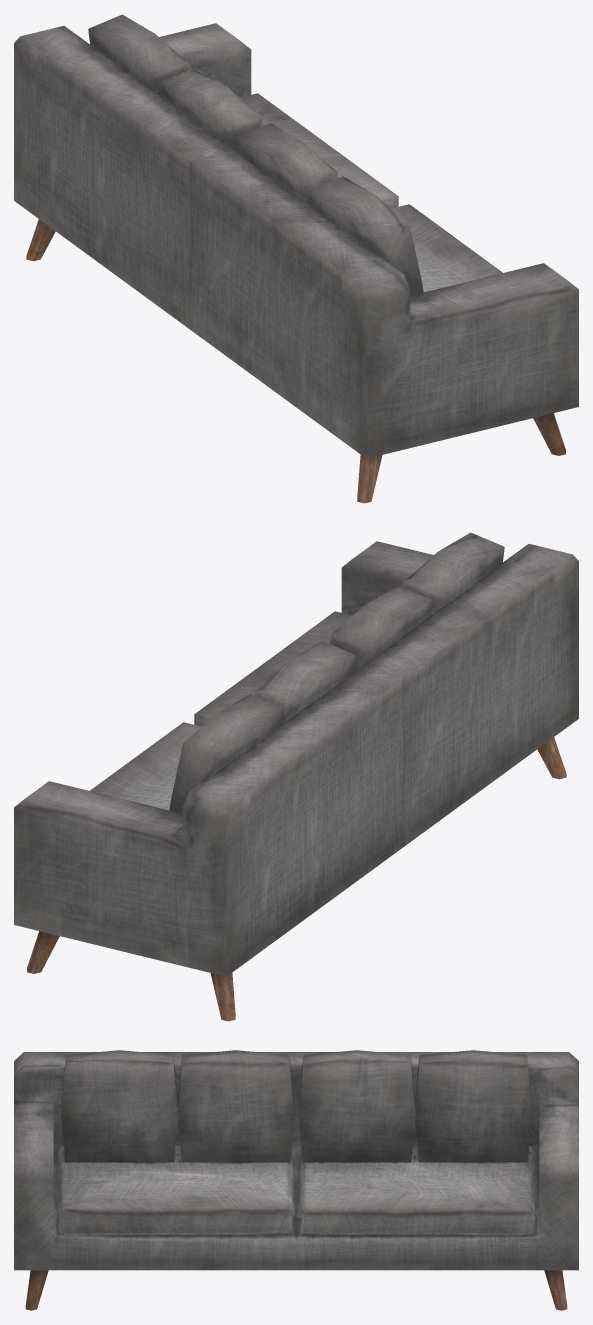
The model's file is sofagrey.glb.
The picture shows the model from 3 angles, top to bottom: view 1: azimuth 30°, elevation 25°; view 2: azimuth 150°, elevation 25°; view 3: azimuth 270°, elevation 25°; orthographic projection. The views are drawn at different scales.
Visible parts, largest first — view 1: Object_32.002; view 2: Object_32.002; view 3: Object_32.002.
Boxes of the visible parts, <box> form: Object_32.002: <box>14,14,578,503</box>; Object_32.002: <box>14,532,578,1021</box>; Object_32.002: <box>14,1050,578,1310</box>.
Bounding box in the file's own units: 0.701 × 0.7779 × 2.
1 material, 1 textured.
